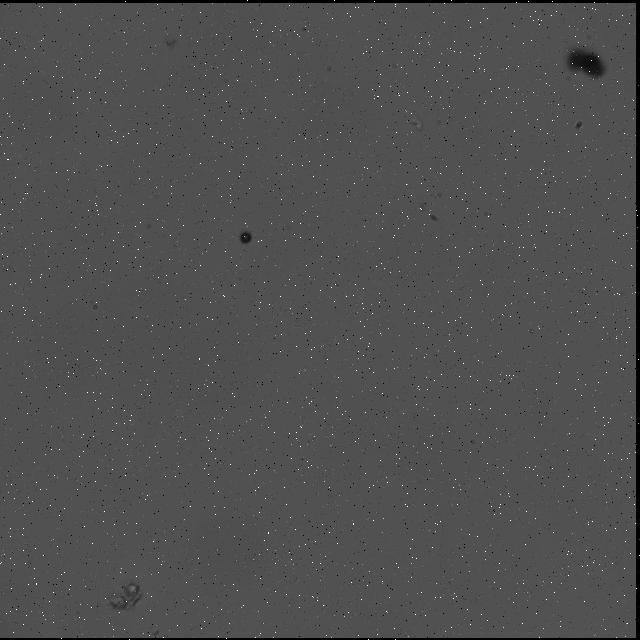microbeads: (236, 228, 254, 246)
